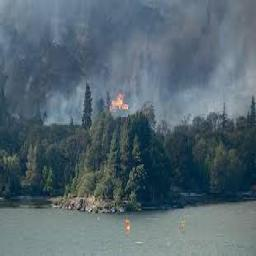Heavy smoke: (0, 0, 255, 132)
Small fire: (98, 83, 142, 126)
